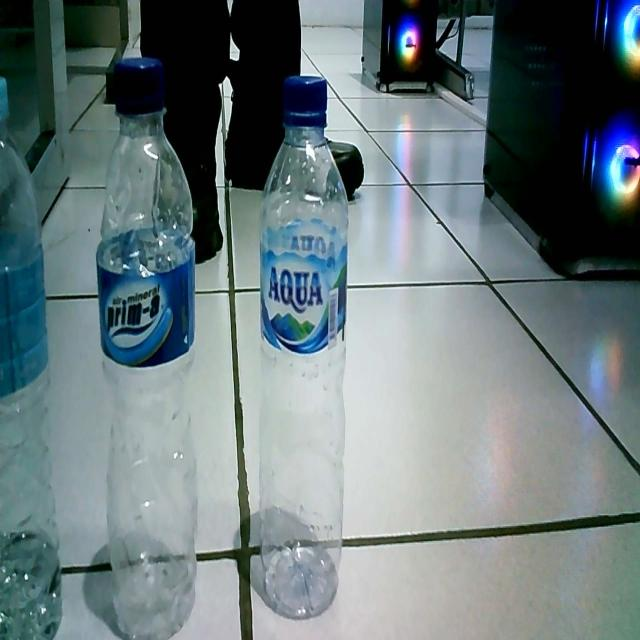botol: (66, 49, 214, 640), (245, 75, 376, 633)
